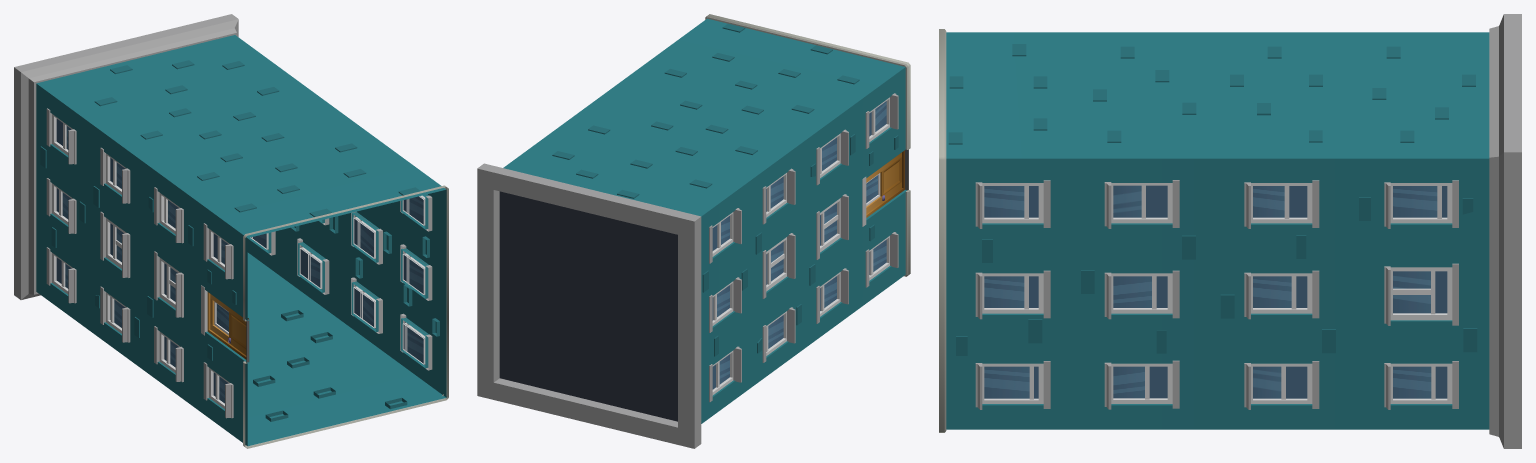
The model's file is Building_2_5_I.glb.
3 views of the same model, side by side, from view 1: azimuth 30°, elevation 25°; view 2: azimuth 150°, elevation 25°; view 3: azimuth 270°, elevation 25° (orthographic). The views are drawn at different scales.
Visible parts, largest first — view 1: Building_2_5_I; view 2: Building_2_5_I; view 3: Building_2_5_I.
Boxes of the visible parts, <box> form: Building_2_5_I: <box>14,14,448,448</box>; Building_2_5_I: <box>477,14,910,448</box>; Building_2_5_I: <box>939,14,1521,448</box>.
Size of the model in its own units: 6.2 by 6.2 by 11.05.
Materials: 3 (3 with a texture image).
